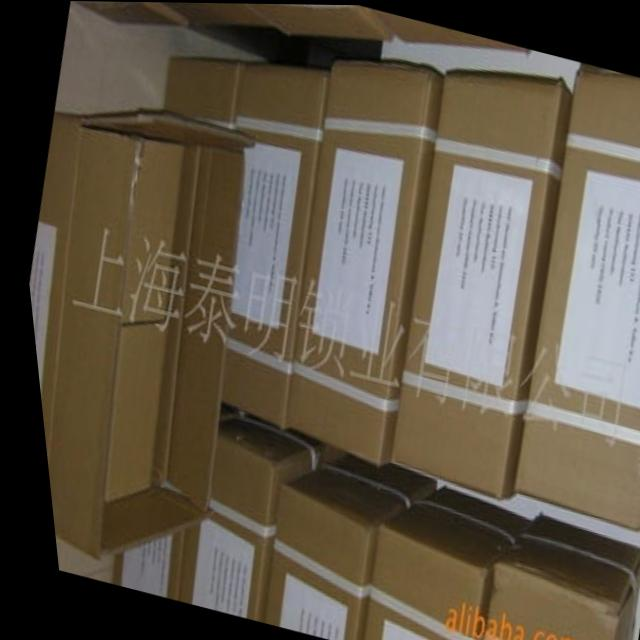box: (23, 111, 255, 558), (381, 70, 572, 498), (277, 62, 443, 463), (503, 65, 640, 528), (214, 66, 327, 426), (165, 402, 319, 622), (251, 457, 426, 640), (346, 486, 524, 640), (469, 513, 630, 640), (362, 5, 527, 49), (159, 54, 238, 131), (98, 529, 172, 600), (252, 3, 390, 38), (158, 2, 290, 29), (78, 1, 188, 23)
